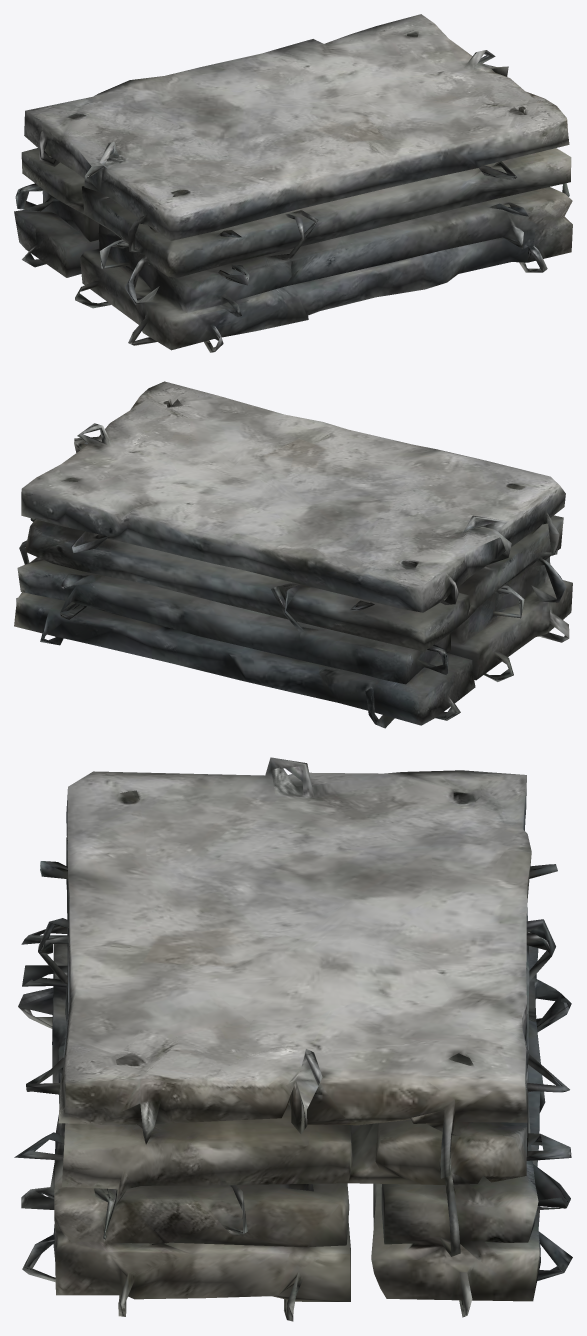
File: qr_slabs.glb
The picture shows the model from 3 angles, top to bottom: view 1: azimuth 30°, elevation 25°; view 2: azimuth 150°, elevation 25°; view 3: azimuth 270°, elevation 25°; orthographic projection. The views are drawn at different scales.
Visible parts, largest first — view 1: tripo_node_32e52313-65bb-49f8-9bcb-fd377cfa74ee; view 2: tripo_node_32e52313-65bb-49f8-9bcb-fd377cfa74ee; view 3: tripo_node_32e52313-65bb-49f8-9bcb-fd377cfa74ee.
Part boxes in pixels (x1,y1,x2,y2): tripo_node_32e52313-65bb-49f8-9bcb-fd377cfa74ee: (14,14,572,352); tripo_node_32e52313-65bb-49f8-9bcb-fd377cfa74ee: (14,381,572,728); tripo_node_32e52313-65bb-49f8-9bcb-fd377cfa74ee: (14,757,572,1321).
Size of the model in its own units: 1 by 0.3551 by 0.6857.
Materials: 1 (1 with a texture image).
